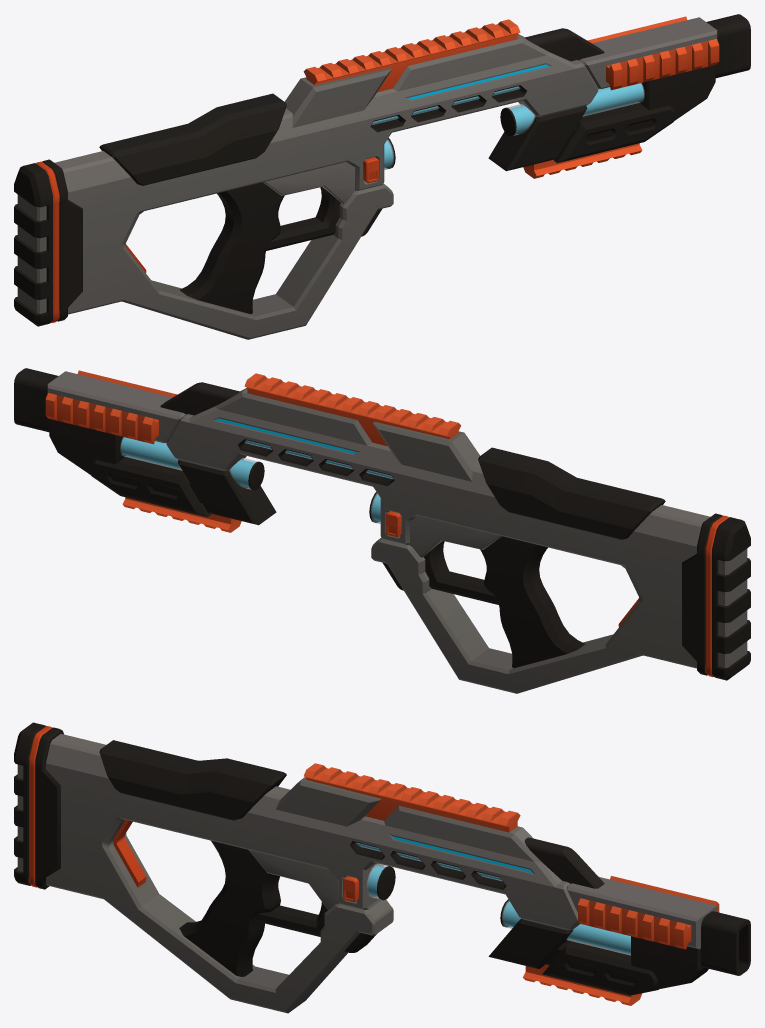
The picture shows the model from 3 angles, top to bottom: view 1: azimuth 30°, elevation 25°; view 2: azimuth 150°, elevation 25°; view 3: azimuth 330°, elevation 25°; orthographic projection.
Parts seen in each view (by area): view 1: AR9_Base; view 2: AR9_Base; view 3: AR9_Base.
Part boxes in pixels (box(x1,y1,x2,y2)): AR9_Base: box(14, 14, 750, 339); AR9_Base: box(14, 368, 750, 693); AR9_Base: box(14, 722, 750, 1013).
Size of the model in its own units: 75.98 by 24.61 by 6.54.
